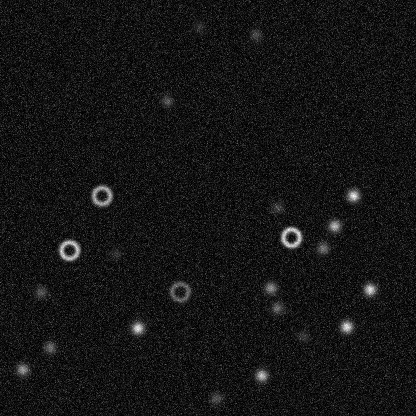Ring: (279, 225, 303, 249), (167, 279, 191, 303), (89, 183, 113, 207), (57, 238, 81, 262)
Spot: (269, 199, 285, 215), (208, 390, 224, 406), (361, 281, 377, 297), (326, 217, 342, 233), (295, 327, 311, 343), (41, 339, 57, 355), (314, 240, 330, 256), (247, 26, 263, 42), (107, 245, 123, 261), (253, 367, 269, 383), (269, 299, 285, 315), (14, 361, 30, 377), (158, 92, 174, 108), (338, 318, 354, 334), (345, 187, 361, 203), (32, 283, 48, 299), (190, 18, 206, 34), (129, 319, 145, 335), (262, 279, 278, 295)
